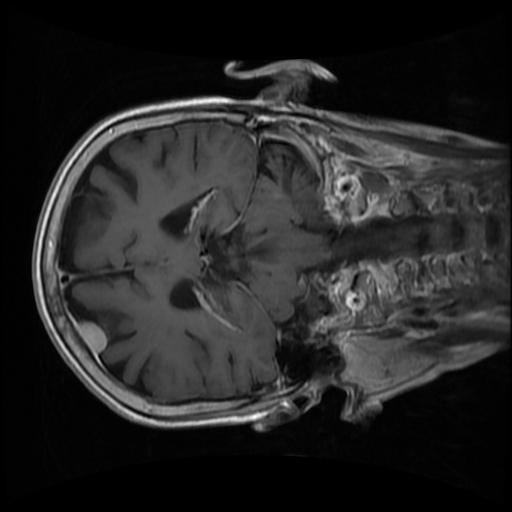meningioma: (75, 321, 107, 354)
